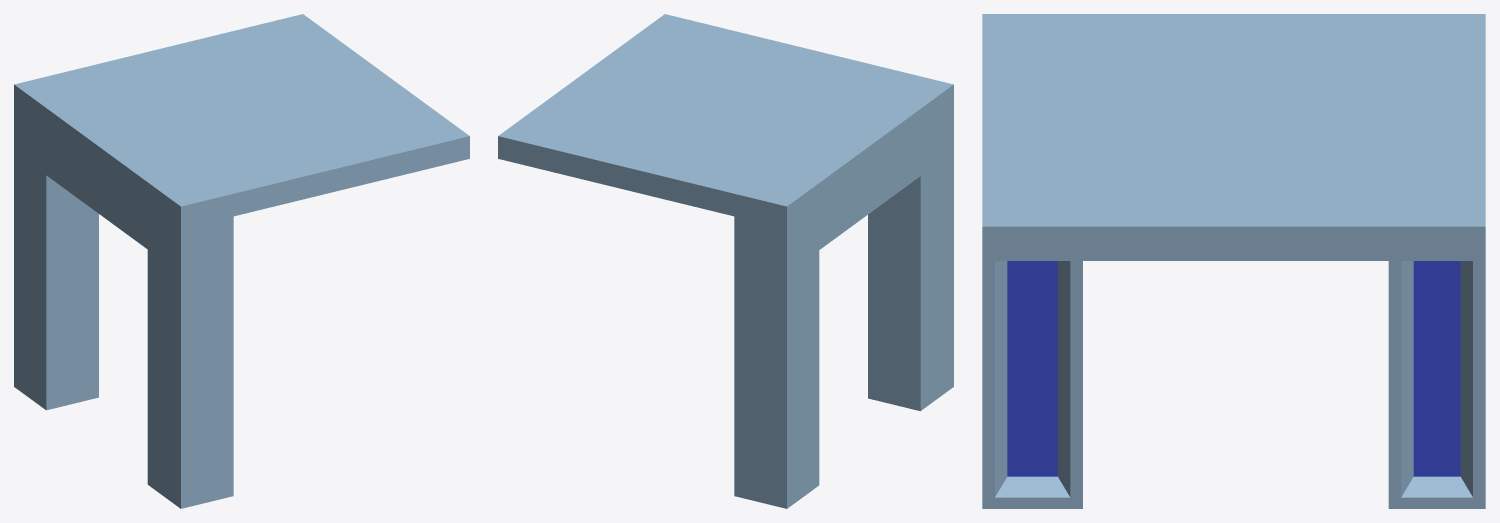
File: EspacioRedSocialPuertaInteriorBajoNI.gltf
3 views of the same model, side by side, from view 1: azimuth 30°, elevation 25°; view 2: azimuth 150°, elevation 25°; view 3: azimuth 270°, elevation 25° (orthographic). The views are drawn at different scales.
Visible parts, largest first — view 1: Cubo.28; view 2: Cubo.28; view 3: Cubo.28.
Boxes of the visible parts, x1,y1,x2,y2 form: Cubo.28: (14,14,469,508); Cubo.28: (498,14,953,508); Cubo.28: (982,14,1485,508).
Size of the model in its own units: 2 by 2 by 2.
1 material, 1 textured.
